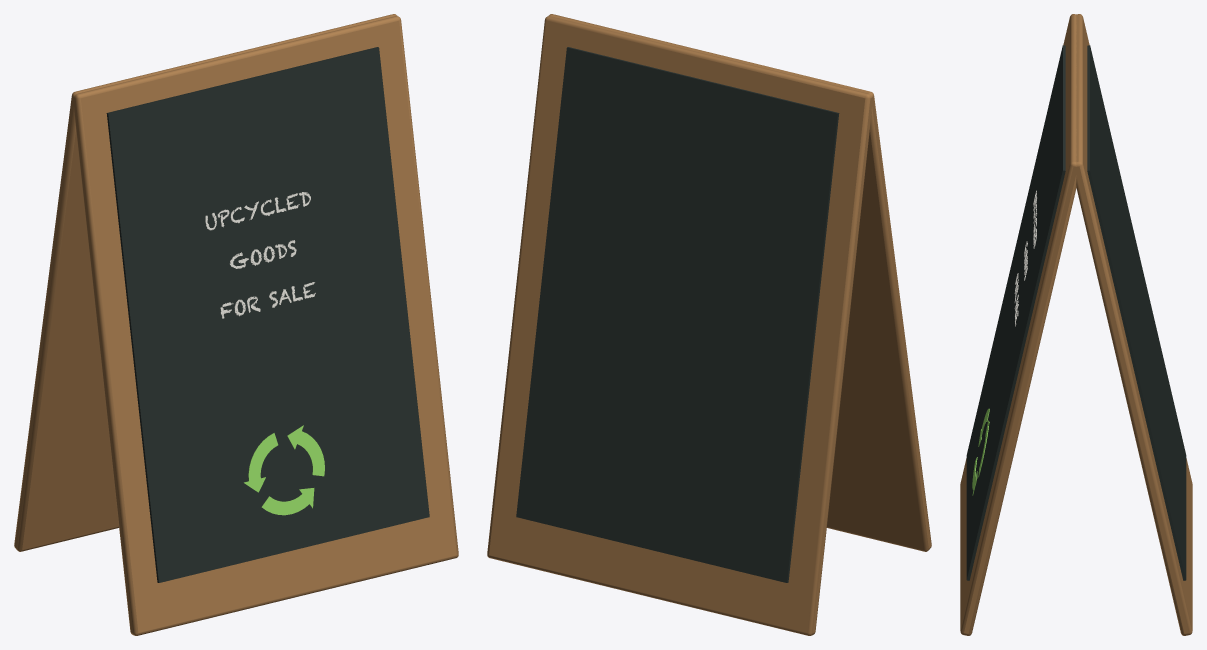
Rendered from chalk_sign.fbx.
The picture shows the model from 3 angles, left to right: view 1: azimuth 30°, elevation 25°; view 2: azimuth 150°, elevation 25°; view 3: azimuth 270°, elevation 25°; orthographic projection. The views are drawn at different scales.
Visible parts, largest first — view 1: chalk_sign; view 2: chalk_sign; view 3: chalk_sign.
Part boxes in pixels (x1,y1,x2,y2): chalk_sign: (14,14,458,635); chalk_sign: (487,14,931,635); chalk_sign: (960,14,1192,635).
Bounding box in the file's own units: 0.6 × 0.882 × 0.3913.
